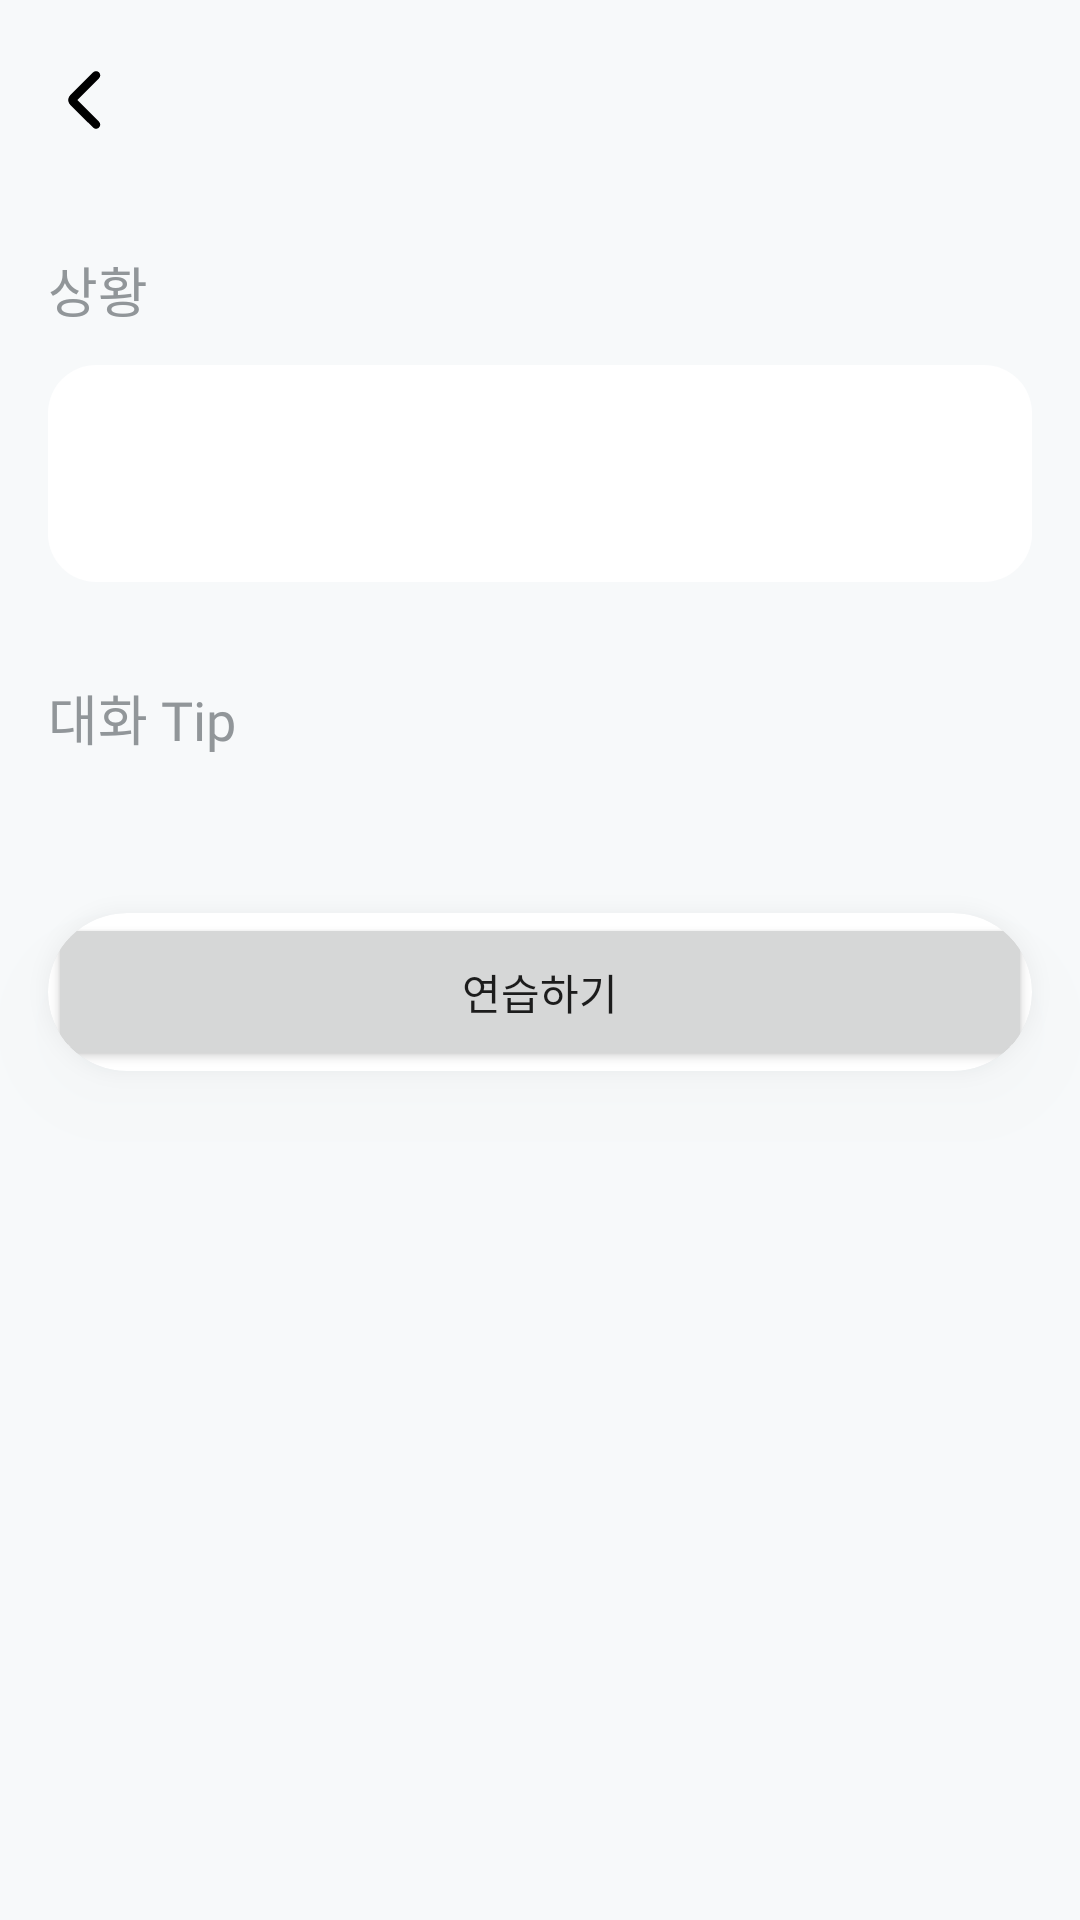

Point at icon controls on the screen. Image size 1080*1920, points as [x,y].
back: [84,100]
